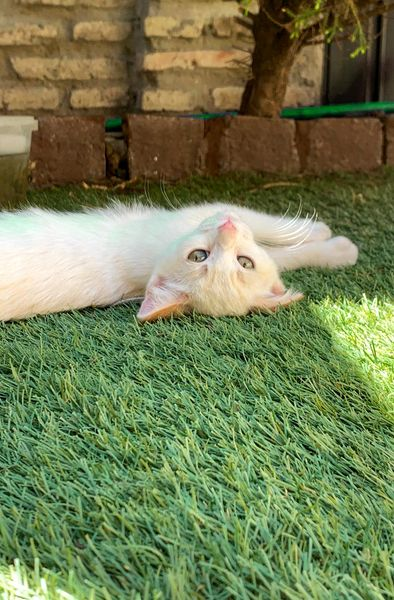cat: (1, 195, 373, 329)
